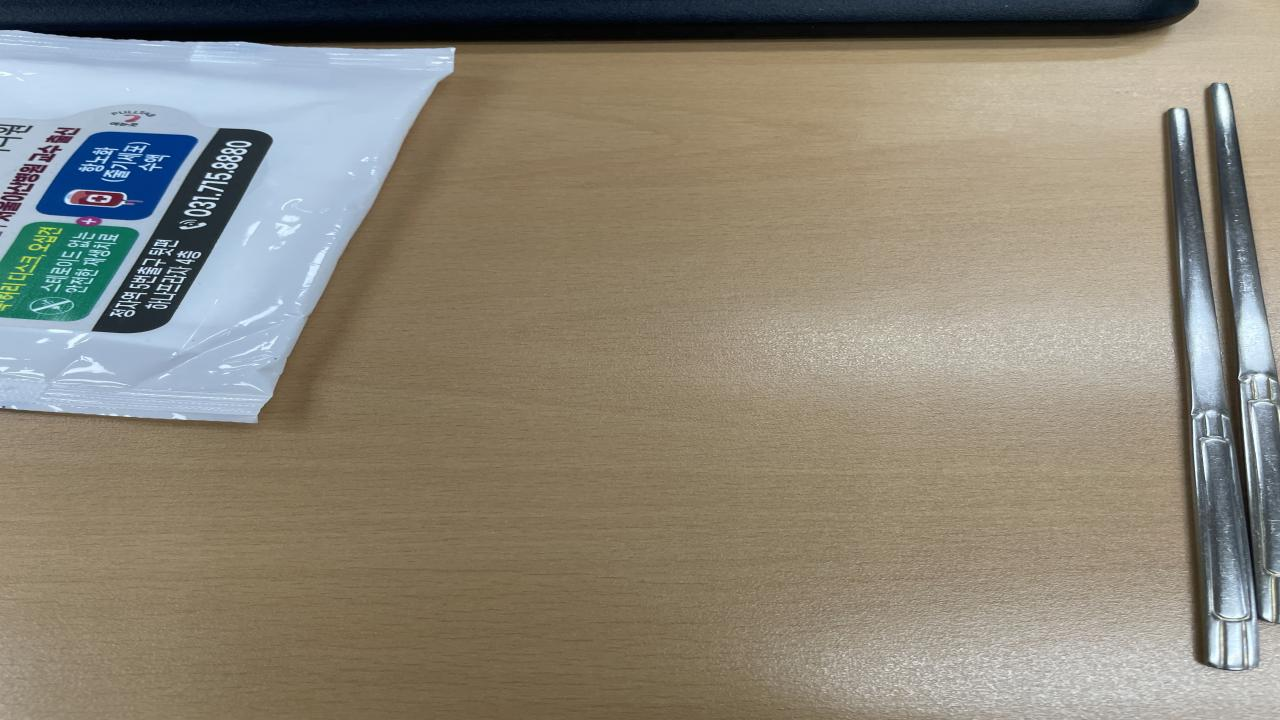chopstick: (1166, 78, 1280, 676)
